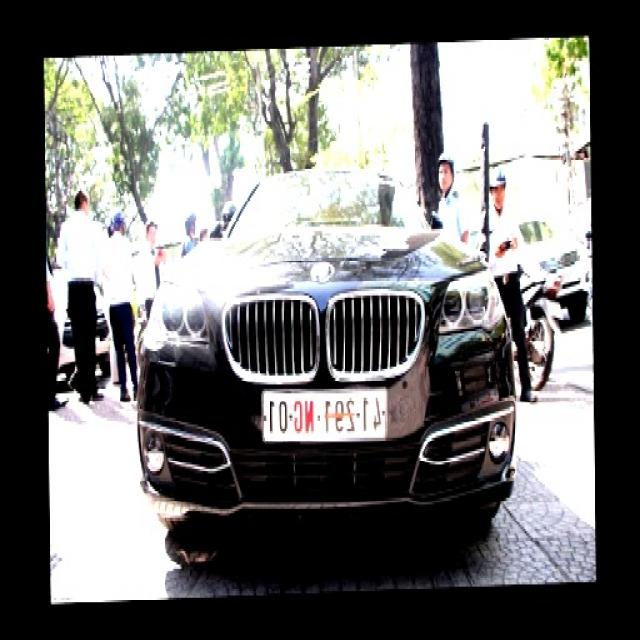bien_ngoai_giao: (262, 385, 387, 440)
